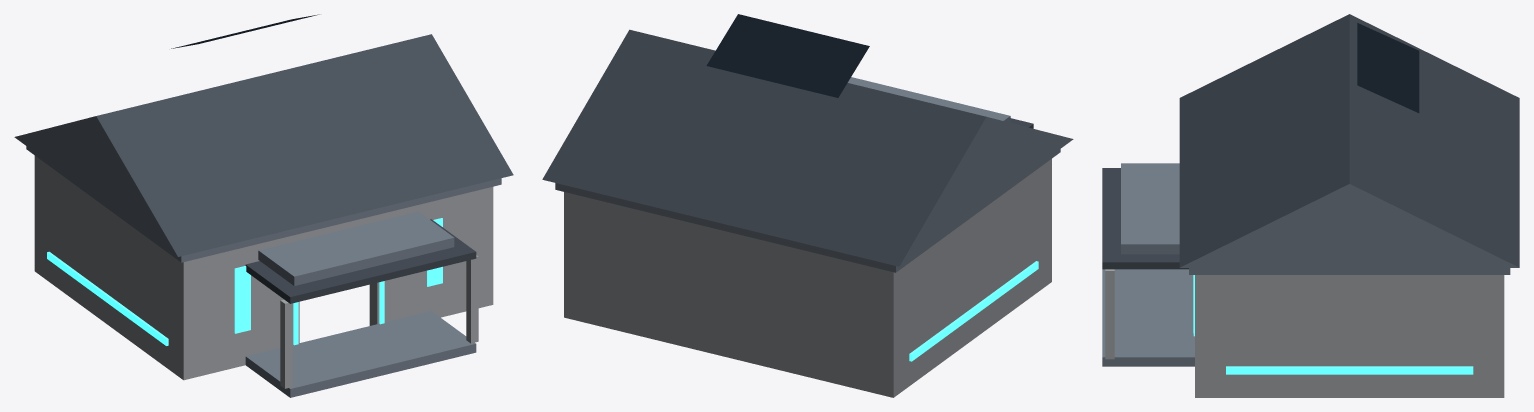
The model's file is shaddai_dist_suburb_home_b_v01.glb.
3 renders of one model, left to right at view 1: azimuth 30°, elevation 25°; view 2: azimuth 150°, elevation 25°; view 3: azimuth 270°, elevation 25°, orthographic. The views are drawn at different scales.
Visible parts, largest first — view 1: shaddai_dist_suburb_home_b; view 2: shaddai_dist_suburb_home_b; view 3: shaddai_dist_suburb_home_b.
Part boxes in pixels (x1,y1,x2,y2): shaddai_dist_suburb_home_b: (14, 14, 513, 397); shaddai_dist_suburb_home_b: (542, 14, 1073, 397); shaddai_dist_suburb_home_b: (1102, 14, 1519, 397).
Bounding box in the file's own units: 13 × 9.48 × 13.5.
